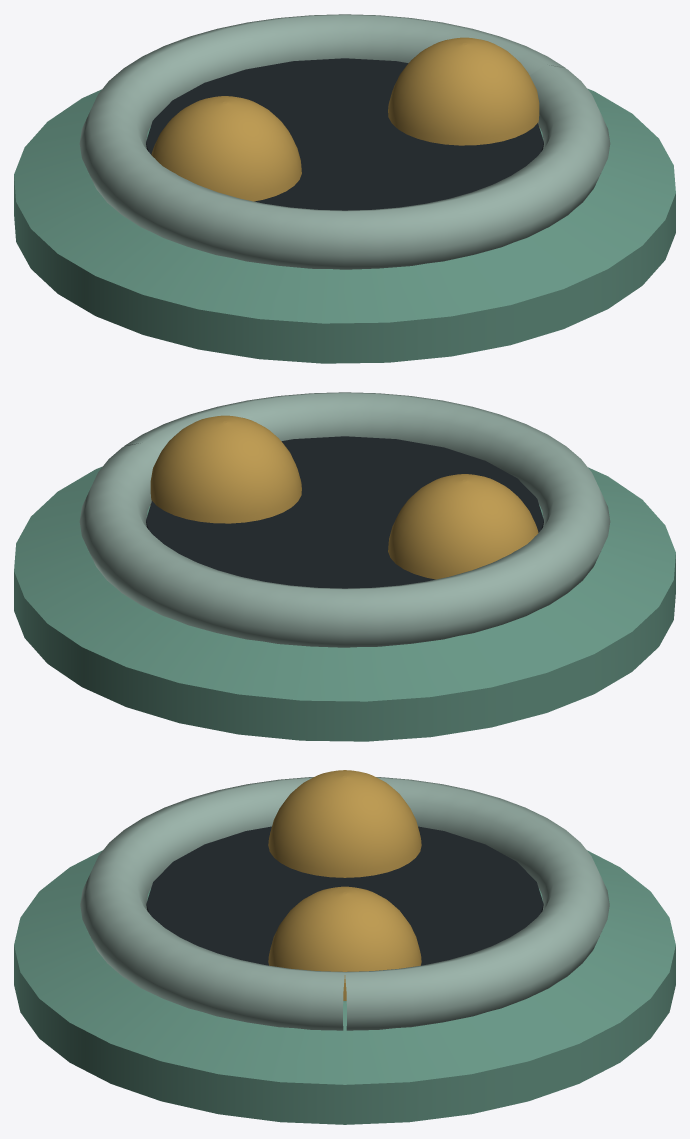
3 renders of one model, top to bottom at view 1: azimuth 30°, elevation 25°; view 2: azimuth 150°, elevation 25°; view 3: azimuth 270°, elevation 25°, orthographic.
Visible parts, largest first — view 1: Terraced oval hull, Raised open bay rim, Dark open bay, Saucer roof auxiliary pod, Saucer roof auxiliary pod.001; view 2: Terraced oval hull, Raised open bay rim, Dark open bay, Saucer roof auxiliary pod, Saucer roof auxiliary pod.001; view 3: Terraced oval hull, Raised open bay rim, Dark open bay, Saucer roof auxiliary pod.001, Saucer roof auxiliary pod.
Boxes of the visible parts, box(x1,y1,x2,y2) form: Terraced oval hull: box(14, 88, 675, 363); Raised open bay rim: box(79, 14, 610, 269); Dark open bay: box(146, 58, 543, 210); Saucer roof auxiliary pod: box(388, 37, 539, 145); Saucer roof auxiliary pod.001: box(151, 96, 301, 201); Terraced oval hull: box(14, 466, 675, 741); Raised open bay rim: box(79, 392, 610, 647); Dark open bay: box(146, 436, 543, 588); Saucer roof auxiliary pod: box(150, 415, 301, 523); Saucer roof auxiliary pod.001: box(388, 474, 538, 579); Terraced oval hull: box(14, 850, 675, 1124); Raised open bay rim: box(80, 777, 609, 1030); Dark open bay: box(146, 826, 543, 965); Saucer roof auxiliary pod.001: box(268, 770, 421, 877); Saucer roof auxiliary pod: box(268, 886, 421, 1000).
Size of the model in its own units: 2.4 by 0.7 by 2.4.
